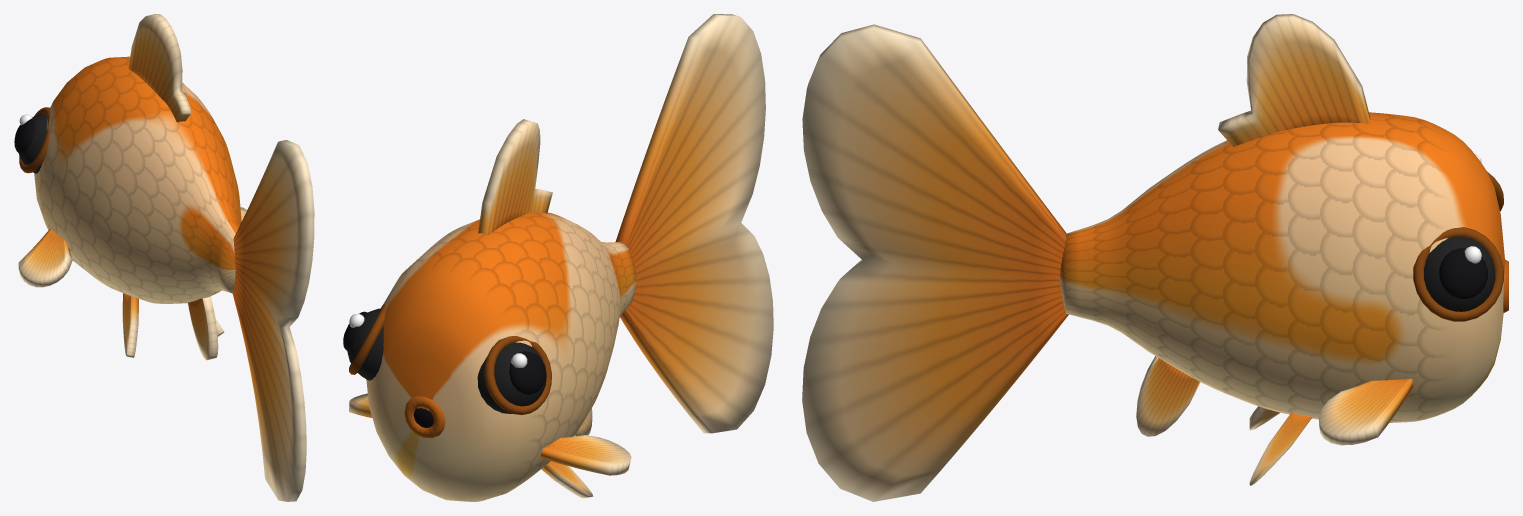
The model's file is Goldfish.glb.
3 renders of one model, left to right at view 1: azimuth 30°, elevation 25°; view 2: azimuth 150°, elevation 25°; view 3: azimuth 270°, elevation 25°, orthographic. The views are drawn at different scales.
Visible parts, largest first — view 1: Goldfish; view 2: Goldfish; view 3: Goldfish.
Part boxes in pixels (box(x1,y1,x2,y2)): Goldfish: box(14, 14, 314, 501); Goldfish: box(343, 14, 773, 501); Goldfish: box(802, 14, 1508, 501).
Bounding box in the file's own units: 1.08 × 1.62 × 2.07.
Materials: 1 (1 with a texture image).
